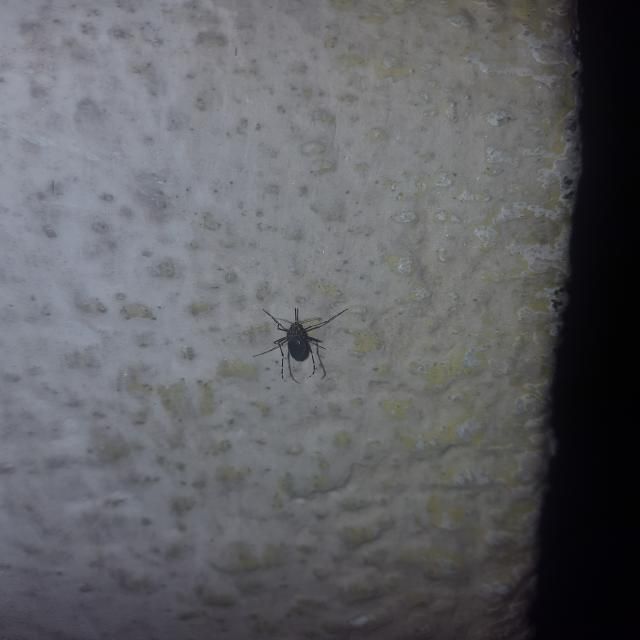aegypti: (242, 301, 353, 382)
